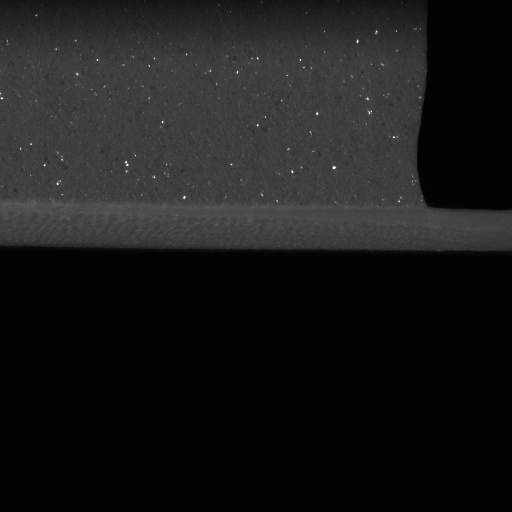changdai: (426, 204, 511, 256)
